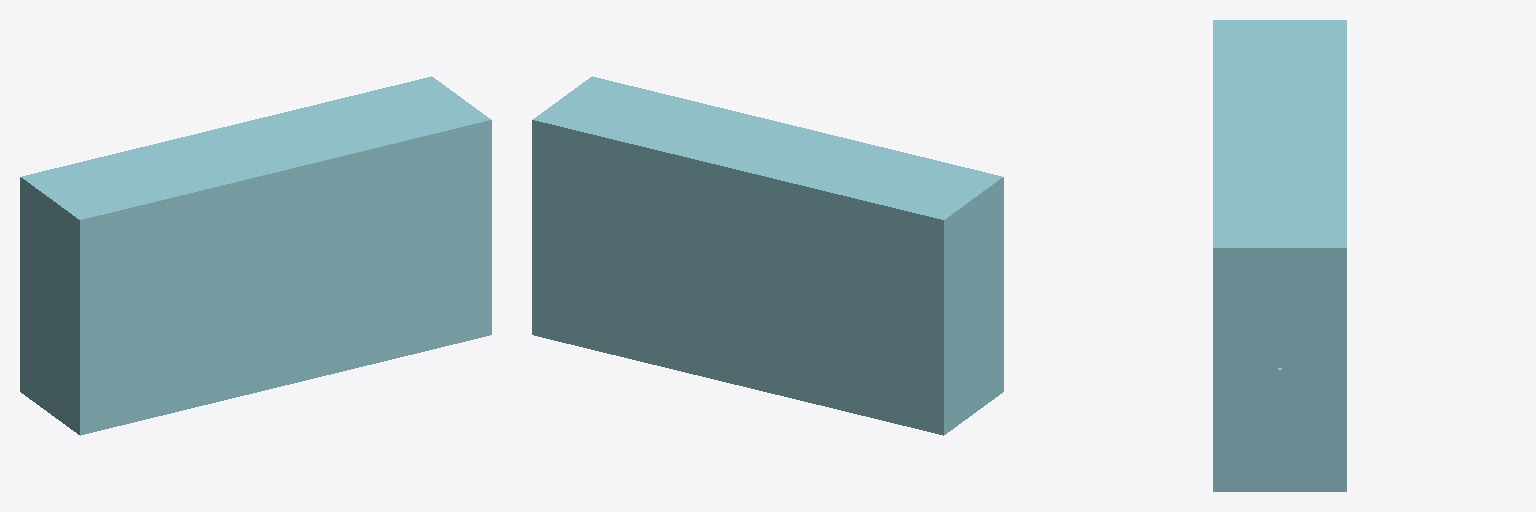
robot.urdf — large_eraser:
<?xml version="1.0"?>
<robot name="large_eraser">

  <link name="large_eraser">
    <!-- Handle -->
    <visual>
      <origin xyz="0 0 0" rpy="0 0 0"/>
      <geometry>
        <box size="0.12 0.03 0.06"/>
      </geometry>
      <material name="material">
        <color rgba="0.639 0.847 0.882 1.0"/>
      </material>
    </visual>
    <collision>
      <origin xyz="0 0 0" rpy="0 0 0"/>
      <geometry>
        <box size="0.12 0.03 0.06"/>
      </geometry>
    </collision>

    <!-- Head -->
    <visual>
      <origin xyz="0.0605 0 0" rpy="0 0 0"/>
      <geometry>
        <box size="0.001 0.001 0.001"/>
      </geometry>
      <material name="material">
        <color rgba="0.639 0.847 0.882 1.0"/>
      </material>
    </visual>
    <collision>
      <origin xyz="0.0605 0 0" rpy="0 0 0"/>
      <geometry>
        <box size="0.001 0.001 0.001"/>
      </geometry>
    </collision>

    <inertial>
      <density value="400.0"/>
    </inertial>
  </link>

</robot>

--- What the picture shows (computed from the rendered views, not written in the file) ---
The picture shows the robot from 3 angles, left to right: view 1: azimuth 30°, elevation 25°; view 2: azimuth 150°, elevation 25°; view 3: azimuth 270°, elevation 25°; orthographic projection.
Model large_eraser with 1 links and 0 joints (none), rooted at large_eraser, posed every joint at zero.
Visible links, largest first — view 1: large_eraser; view 2: large_eraser; view 3: large_eraser.
Link boxes in pixels (box(x1,y1,x2,y2)): large_eraser: box(20, 76, 491, 435); large_eraser: box(532, 76, 1003, 435); large_eraser: box(1213, 20, 1346, 491).
Bounding box of the posed robot: 0.121 × 0.03 × 0.06 m (x, y, z).
Geometry: primitives only (box / cylinder / sphere), no mesh files.
